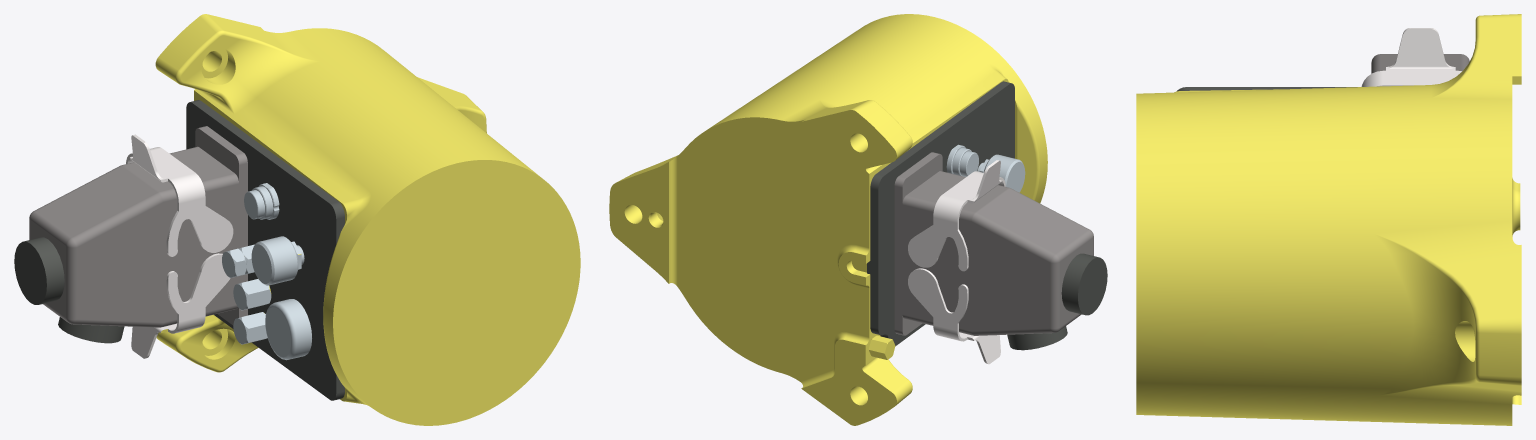
The picture shows the model from 3 angles, left to right: view 1: azimuth 30°, elevation 25°; view 2: azimuth 150°, elevation 25°; view 3: azimuth 270°, elevation 25°; orthographic projection. The views are drawn at different scales.
Visible parts, largest first — view 1: J0-ORI.SLDPRT; view 2: J0-ORI.SLDPRT; view 3: J0-ORI.SLDPRT.
Boxes of the visible parts, left/top/right/bottom form: J0-ORI.SLDPRT: left=14, top=14, right=580, bottom=425; J0-ORI.SLDPRT: left=609, top=14, right=1107, bottom=425; J0-ORI.SLDPRT: left=1136, top=14, right=1521, bottom=425.
Bounding box in the file's own units: 0.2745 × 0.1871 × 0.168.
Materials: 1 (1 with a texture image).
